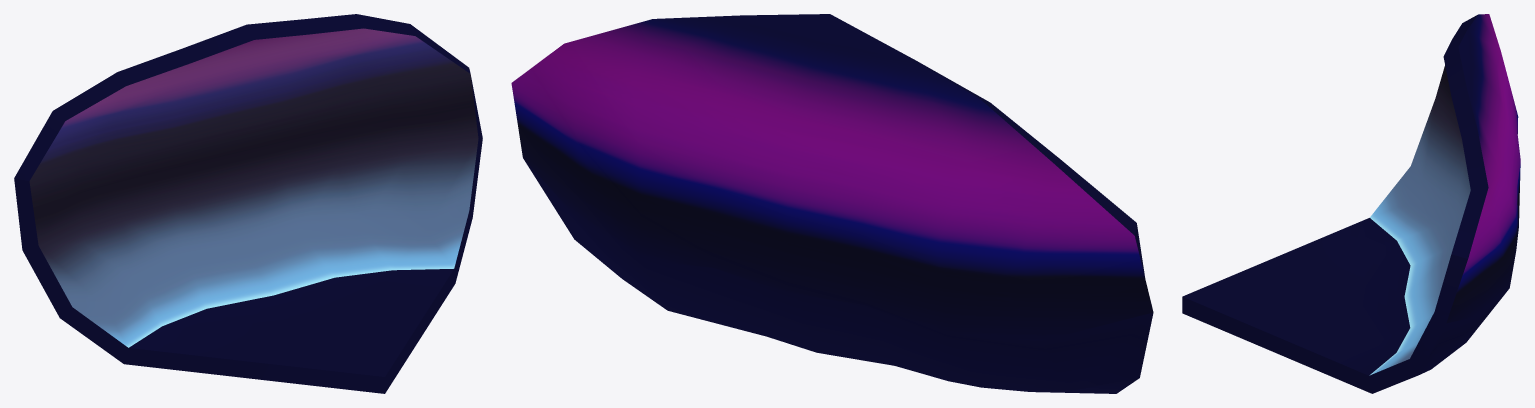
Rendered from urban_concave_halfcorner.gltf.
3 renders of one model, left to right at view 1: azimuth 30°, elevation 25°; view 2: azimuth 150°, elevation 25°; view 3: azimuth 270°, elevation 25°, orthographic. The views are drawn at different scales.
Visible parts, largest first — view 1: urban_concave_halfcorner_glb; view 2: urban_concave_halfcorner_glb; view 3: urban_concave_halfcorner_glb.
Boxes of the visible parts, x1,y1,x2,y2 form: urban_concave_halfcorner_glb: [14, 14, 482, 393]; urban_concave_halfcorner_glb: [511, 14, 1153, 393]; urban_concave_halfcorner_glb: [1182, 14, 1520, 393].
Size of what is drawn, in the model's own units: 6.96 by 3.87 by 4.46.
1 material, 1 textured.
